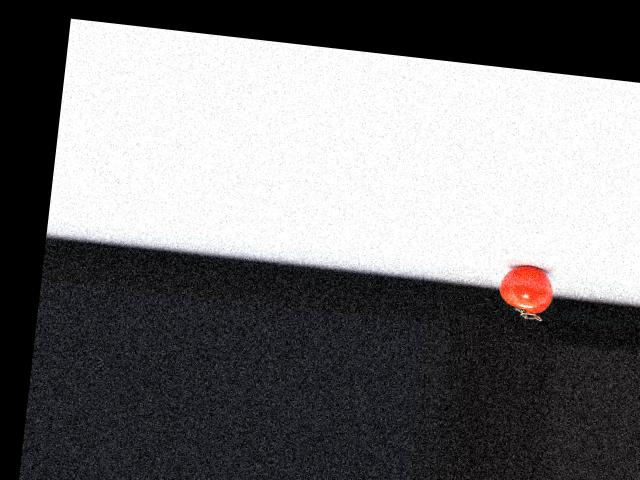tomato: (496, 262, 555, 315)
